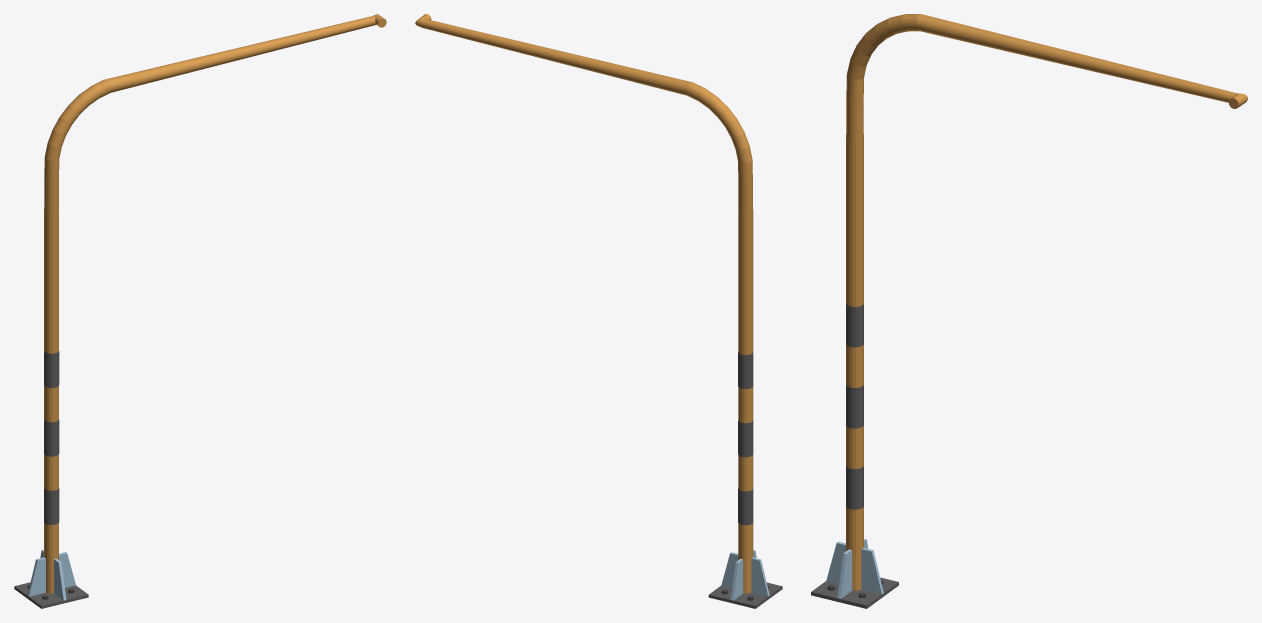
File: Change.FBX
3 views of the same model, side by side, from view 1: azimuth 30°, elevation 25°; view 2: azimuth 150°, elevation 25°; view 3: azimuth 330°, elevation 25° (orthographic). The views are drawn at different scales.
Visible parts, largest first — view 1: 0 01a; view 2: 0 01a; view 3: 0 01a.
Boxes of the visible parts, left/top/right/bottom form: 0 01a: left=14, top=14, right=386, bottom=608; 0 01a: left=415, top=14, right=782, bottom=608; 0 01a: left=811, top=14, right=1247, bottom=608.
Bounding box in the file's own units: 0.1274 × 0.1723 × 0.017.
